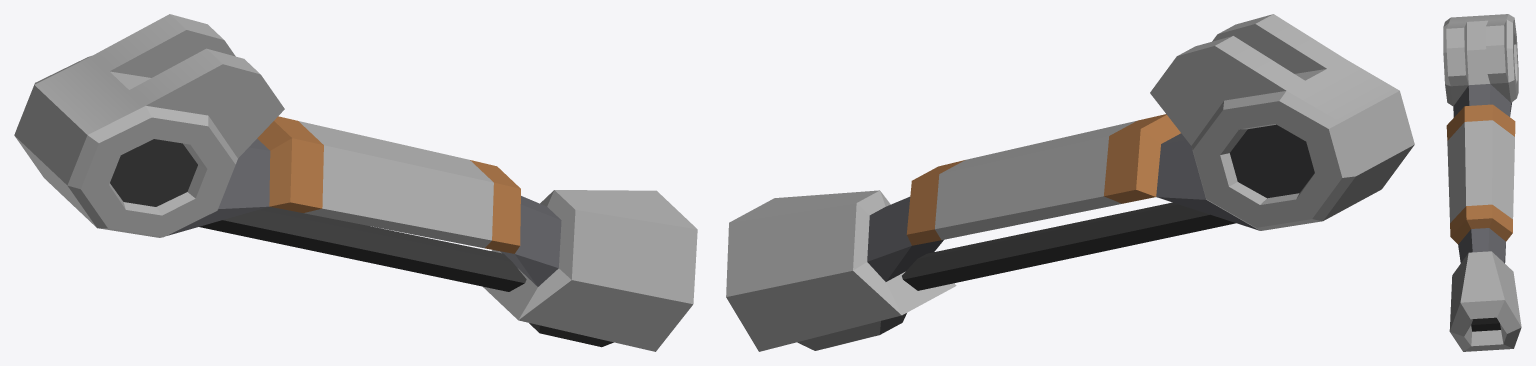
Rendered from Gun.fbx.
3 views of the same model, side by side, from view 1: azimuth 30°, elevation 25°; view 2: azimuth 150°, elevation 25°; view 3: azimuth 270°, elevation 25° (orthographic). The views are drawn at different scales.
Visible parts, largest first — view 1: SM_Prop_Robotic_Part_011; view 2: SM_Prop_Robotic_Part_011; view 3: SM_Prop_Robotic_Part_011.
Part boxes in pixels (<box>): SM_Prop_Robotic_Part_011: <box>14,14,697,351</box>; SM_Prop_Robotic_Part_011: <box>726,14,1414,351</box>; SM_Prop_Robotic_Part_011: <box>1443,14,1521,351</box>.
Bounding box in the file's own units: 0.6432 × 0.3968 × 0.1311.
